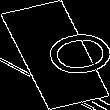O_W: (9, 26, 101, 84)
